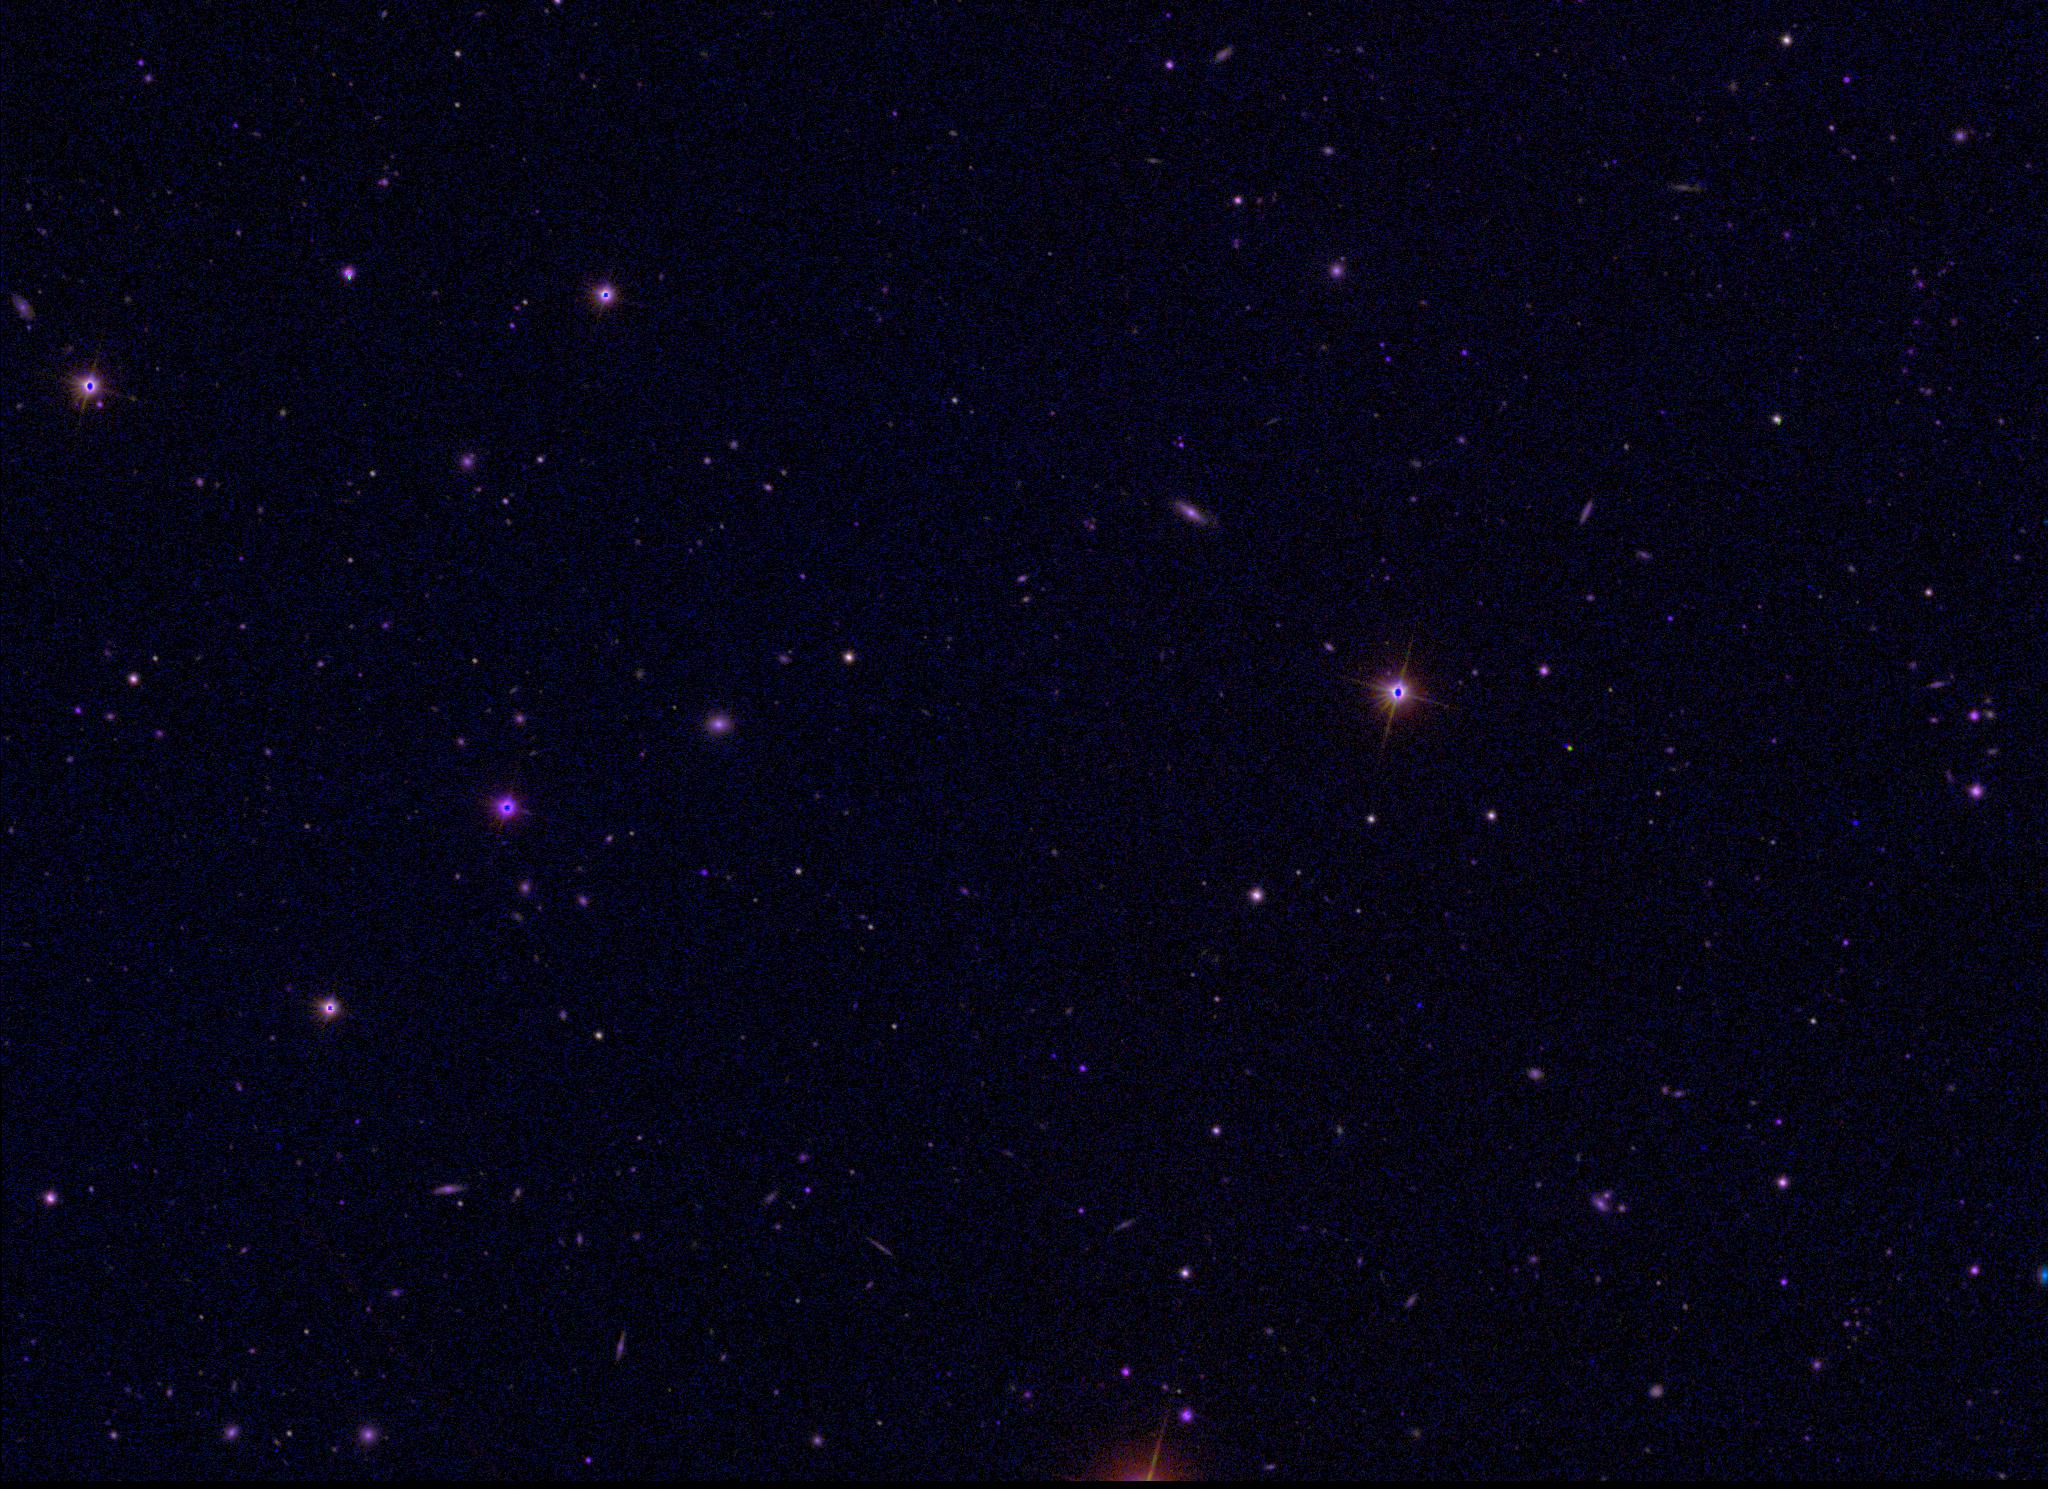L: (1848, 814, 1862, 827)
